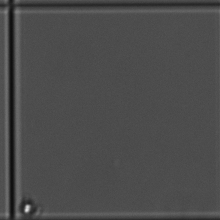Living Cell: (17, 197, 38, 217)
